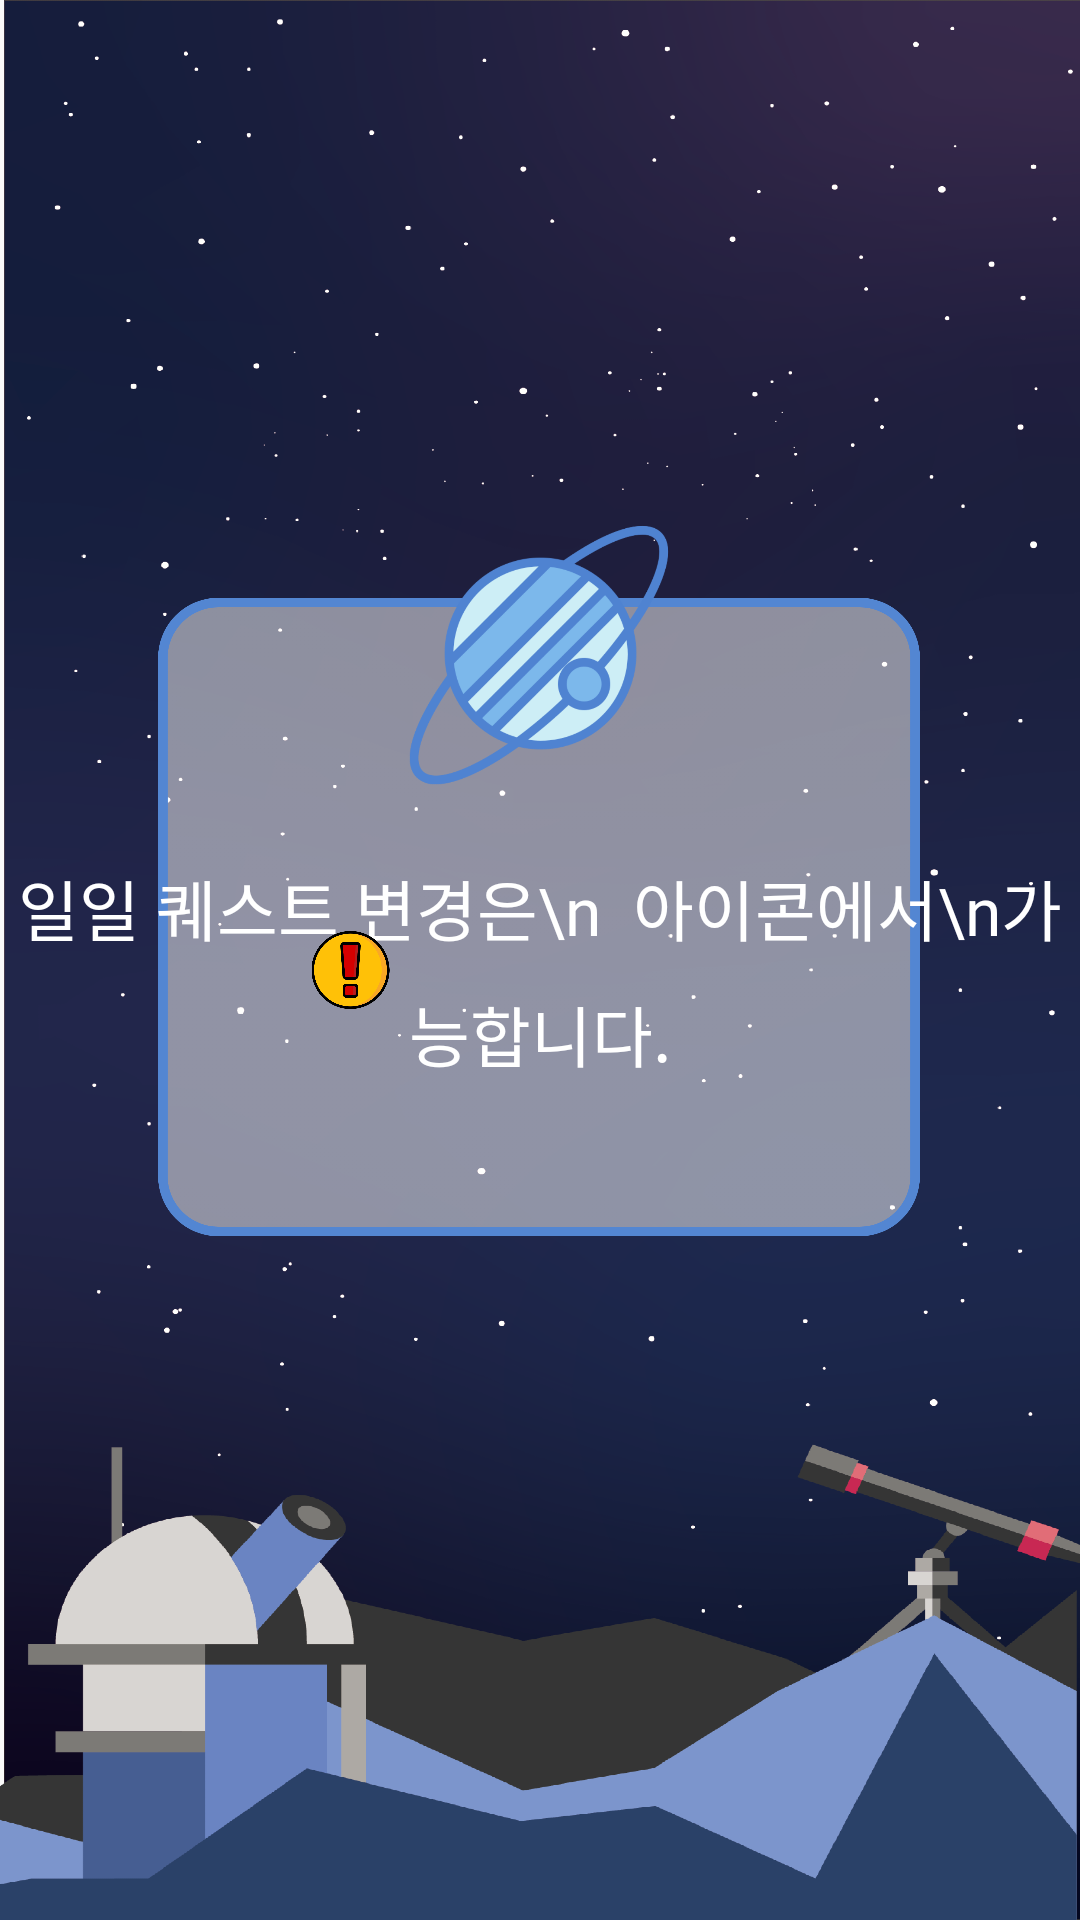

Named icons in this screenshot (1080 × 1920) and their centers, [x,y]:
saturn: [540,653]
warn: [350,970]
